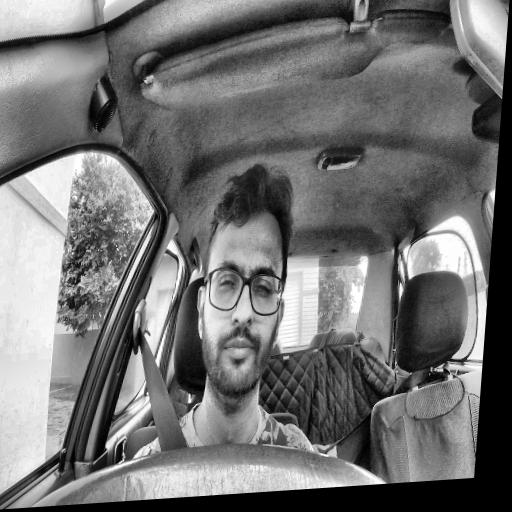drowsy: (190, 159, 296, 406)
